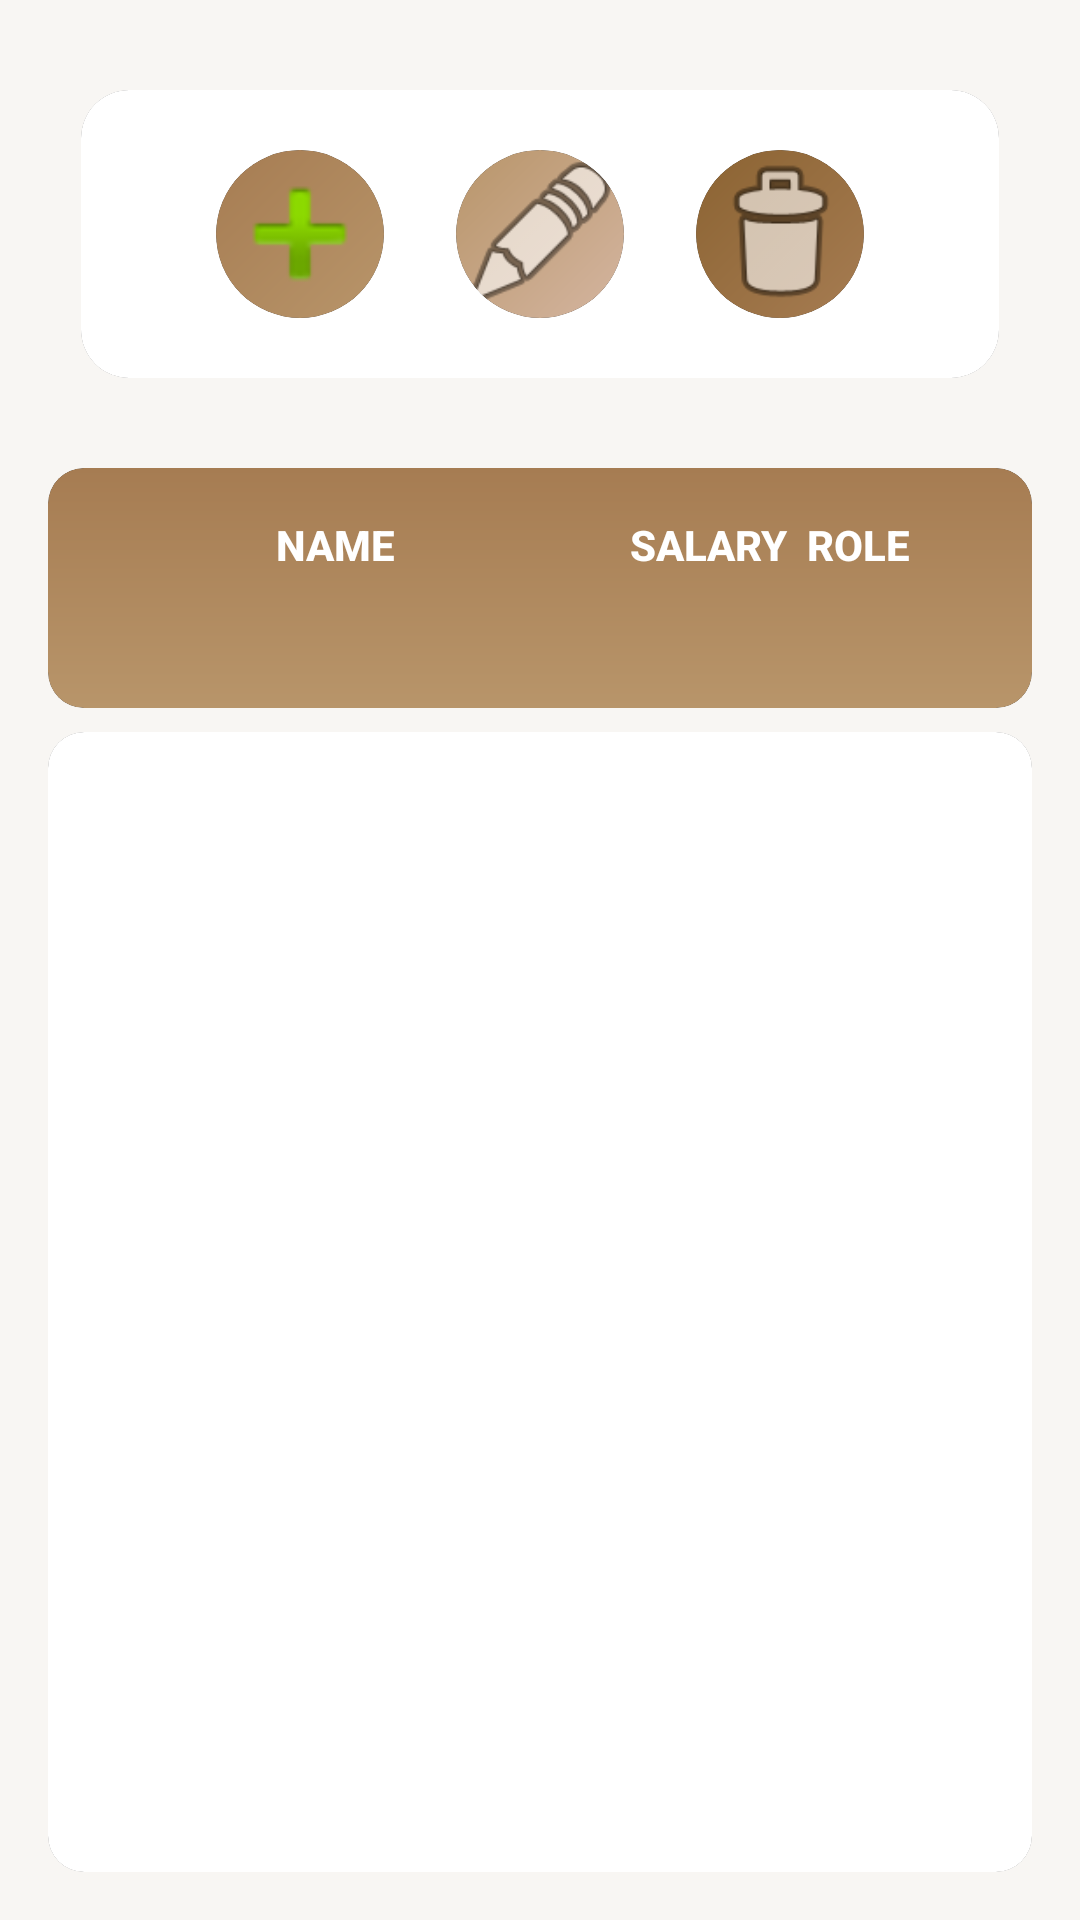

Screen size 1080 × 1920. Icon name, then its center in pixels as point (x, y):
Add Staff: point (300, 234)
Delete Staff: point (780, 234)
Edit Staff: point (540, 234)
